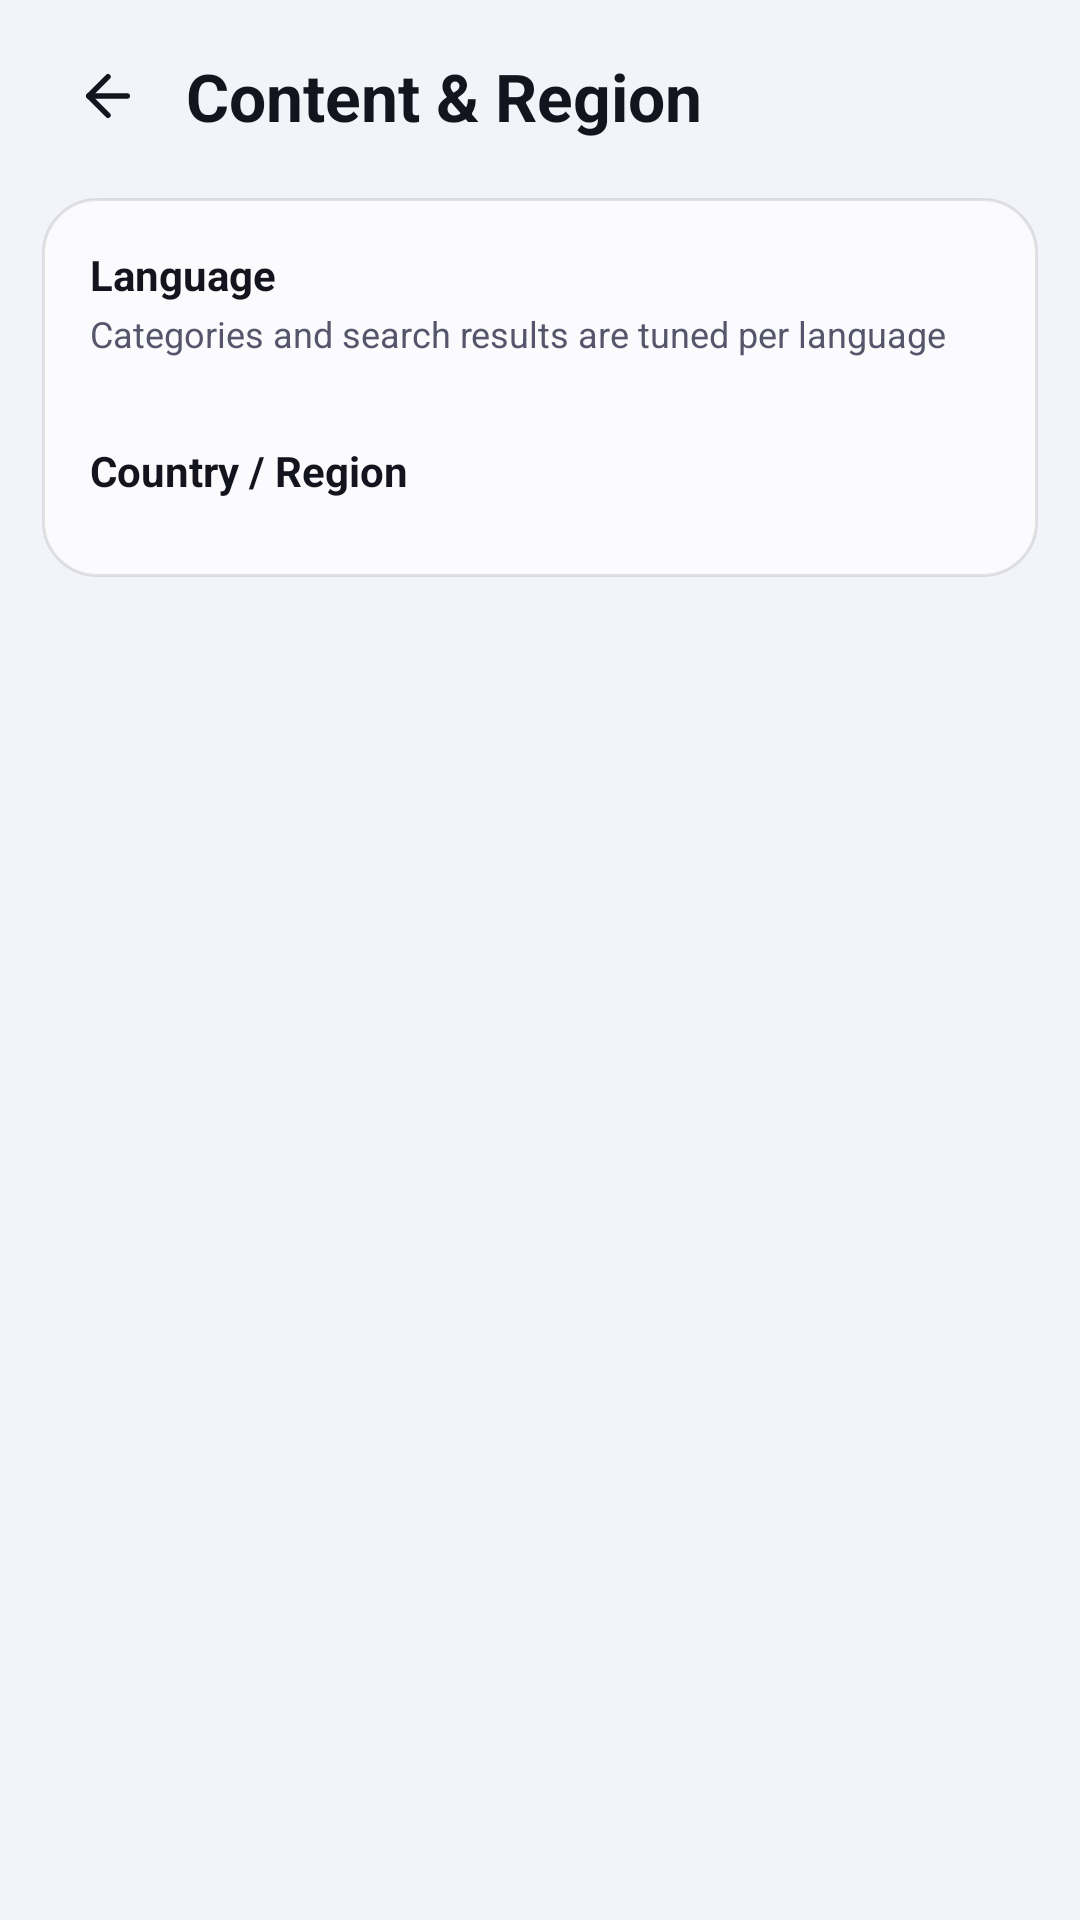

Icons on this 1080*1920 Android screen, each with the point to tap as (x,y):
arrow back: (108,96)
